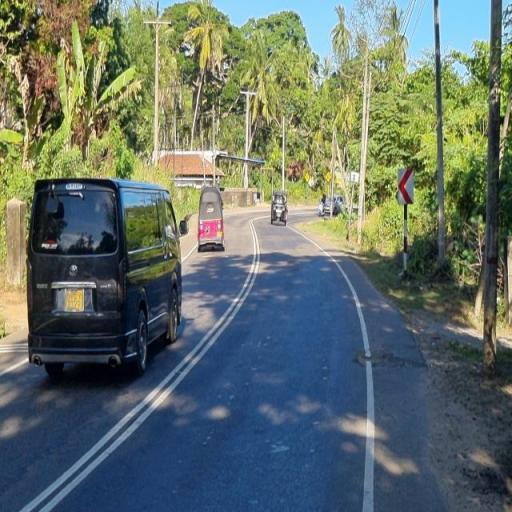double_white_line: (16, 215, 266, 512)
